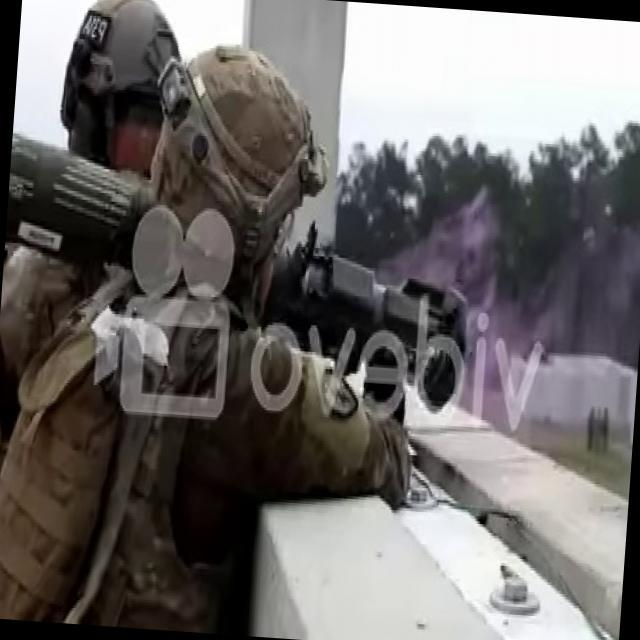rocket: (0, 132, 481, 399)
